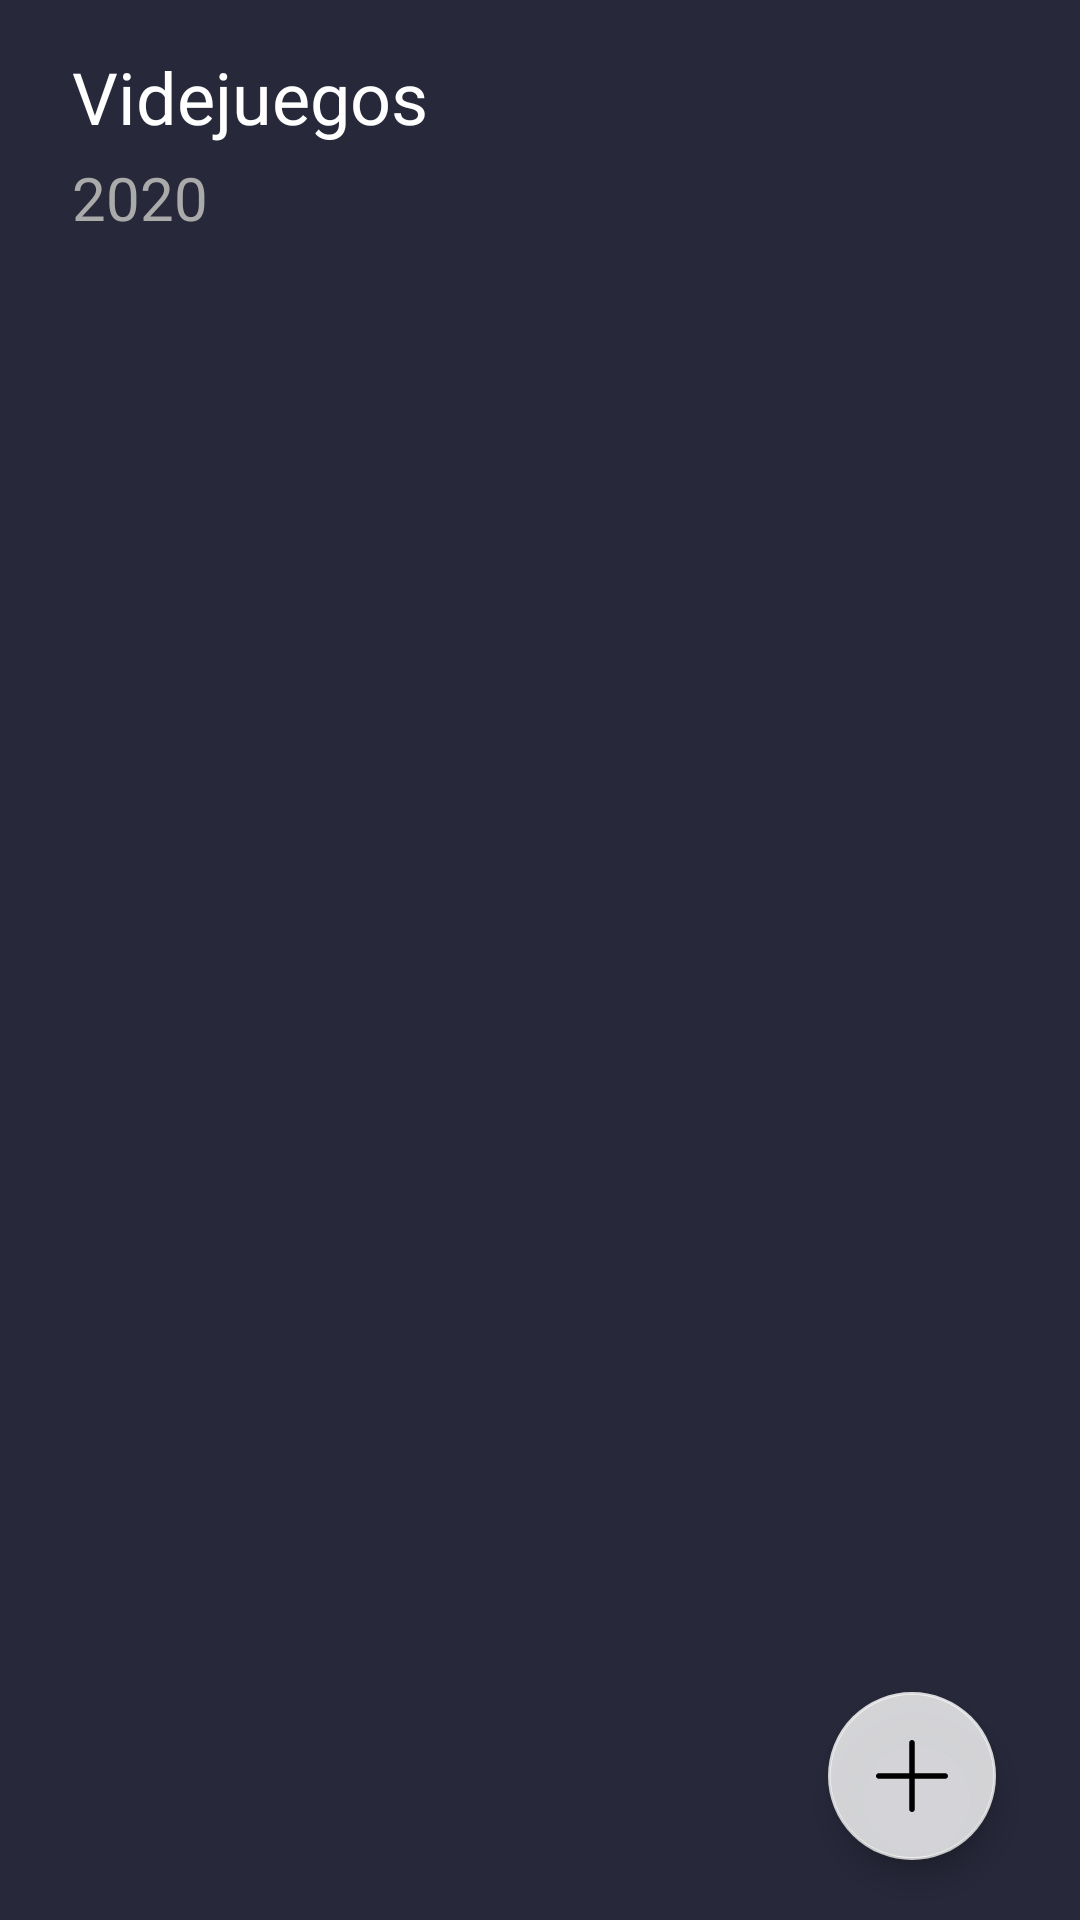

Point at icon controls on the screen. Image size 1080×1920, points as (x,y).
plus: (912,1776)
